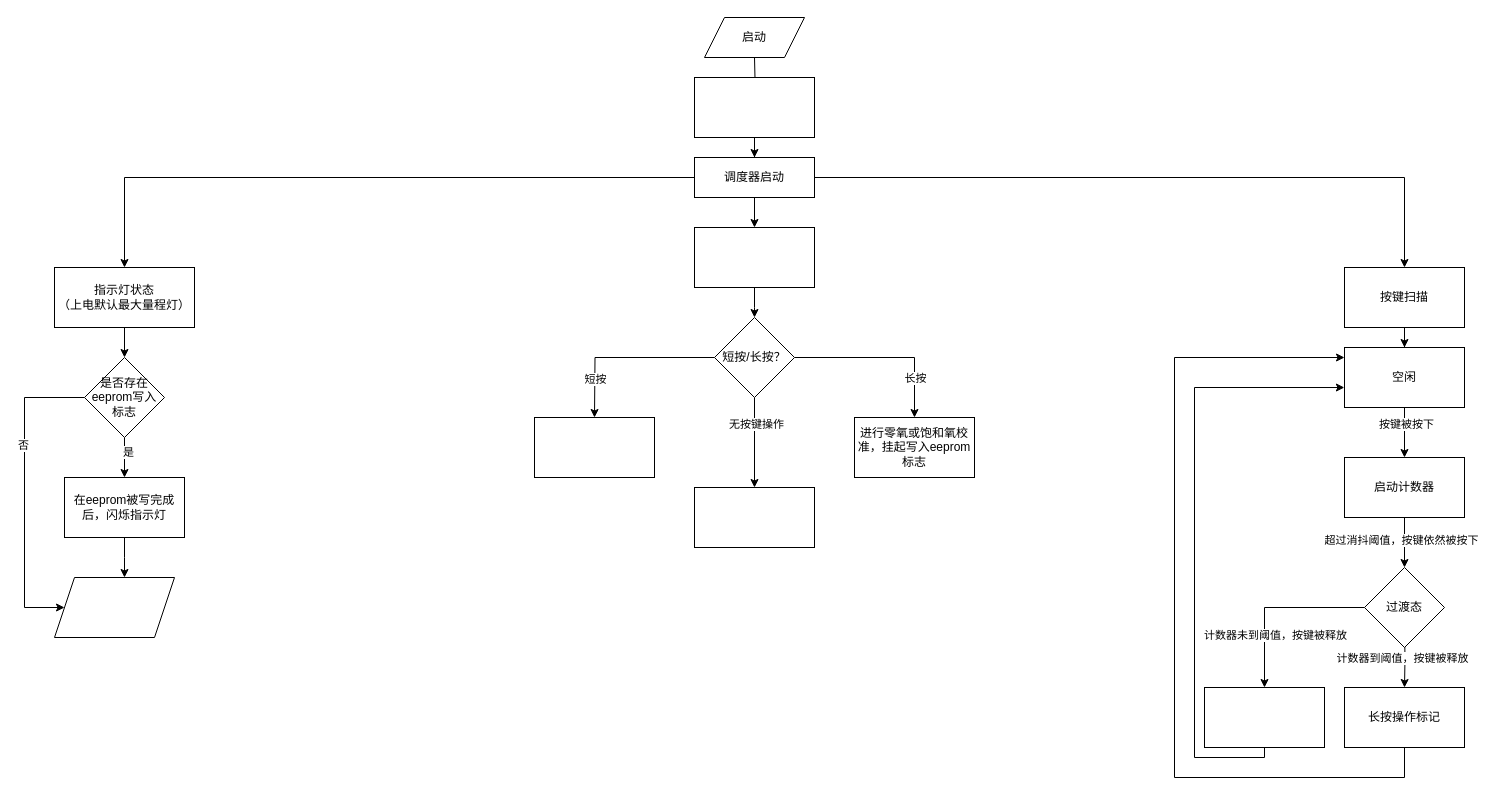
The diagram is 1495 pixels wide and 803 high, and some of its shapes have lost their labels. The centre of each missing label's shape, as x and y in pixels:
传感器初始化 （adc初始化、零点和斜率初始化）: (754,107)
切换零氧和饱和氧校准模式: (594,447)
短按操作标记: (1264,717)
结束: (114,607)
计算溶解氧: (754,517)
读取ADC: (754,257)
